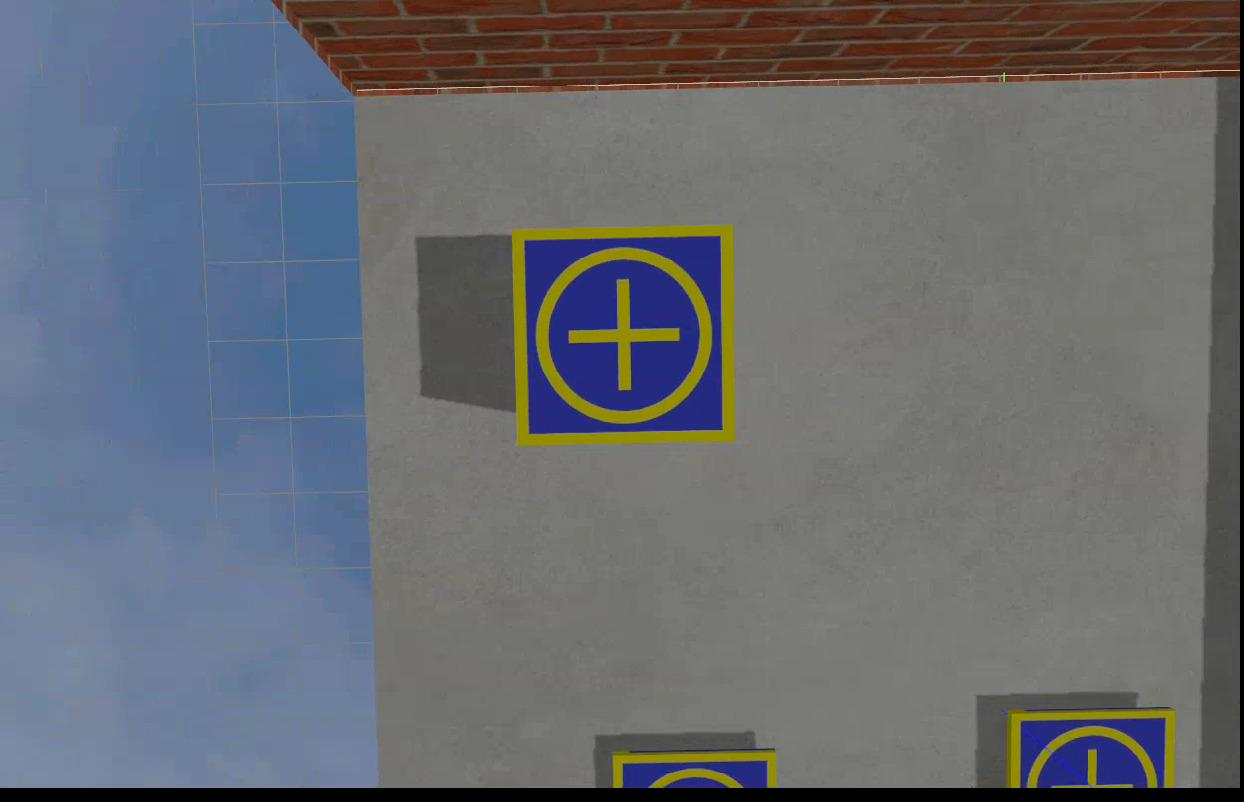small_base: (514, 229, 737, 451), (1006, 708, 1176, 791), (611, 749, 780, 793)
